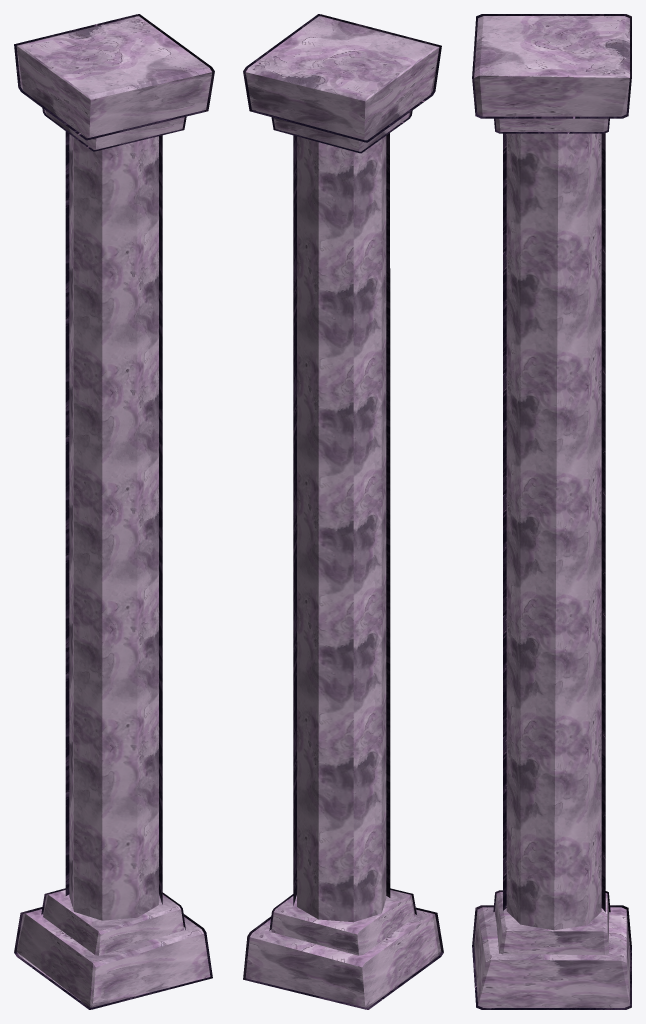
The model's file is pm-str-column-04.glb.
The picture shows the model from 3 angles, left to right: view 1: azimuth 30°, elevation 25°; view 2: azimuth 150°, elevation 25°; view 3: azimuth 270°, elevation 25°; orthographic projection. The views are drawn at different scales.
Parts seen in each view (by area): view 1: Str_Column_04_Art; view 2: Str_Column_04_Art; view 3: Str_Column_04_Art.
Boxes of the visible parts, x1=… form: Str_Column_04_Art: x1=14, y1=14, x2=214, y2=1009; Str_Column_04_Art: x1=243, y1=14, x2=443, y2=1009; Str_Column_04_Art: x1=472, y1=14, x2=631, y2=1009.
Size of what is drawn, in the model's own units: 1.69 by 12 by 1.86.
Materials: 2 (2 with a texture image).
